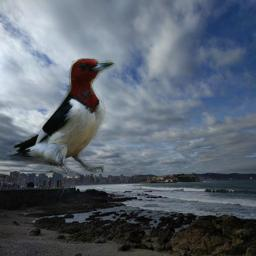Woodpecker: (6, 58, 116, 177)
